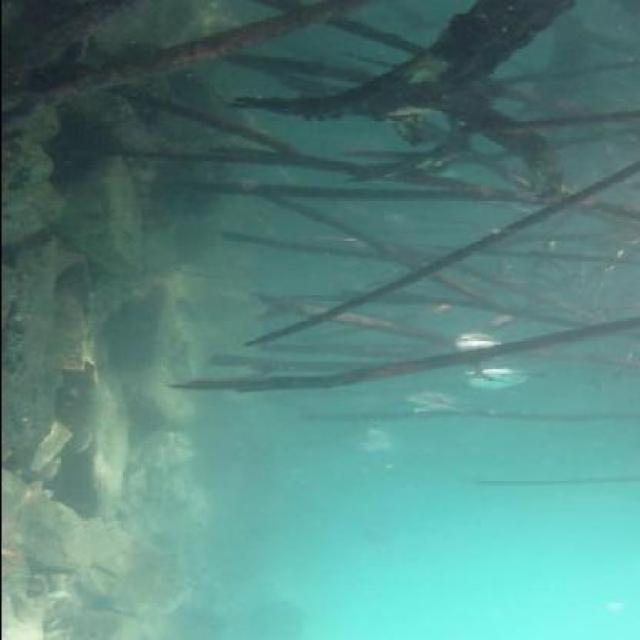Caranx_sexfasciatus_juvenile: (442, 332, 526, 386), (462, 364, 547, 398), (394, 390, 466, 424), (346, 429, 408, 463)
